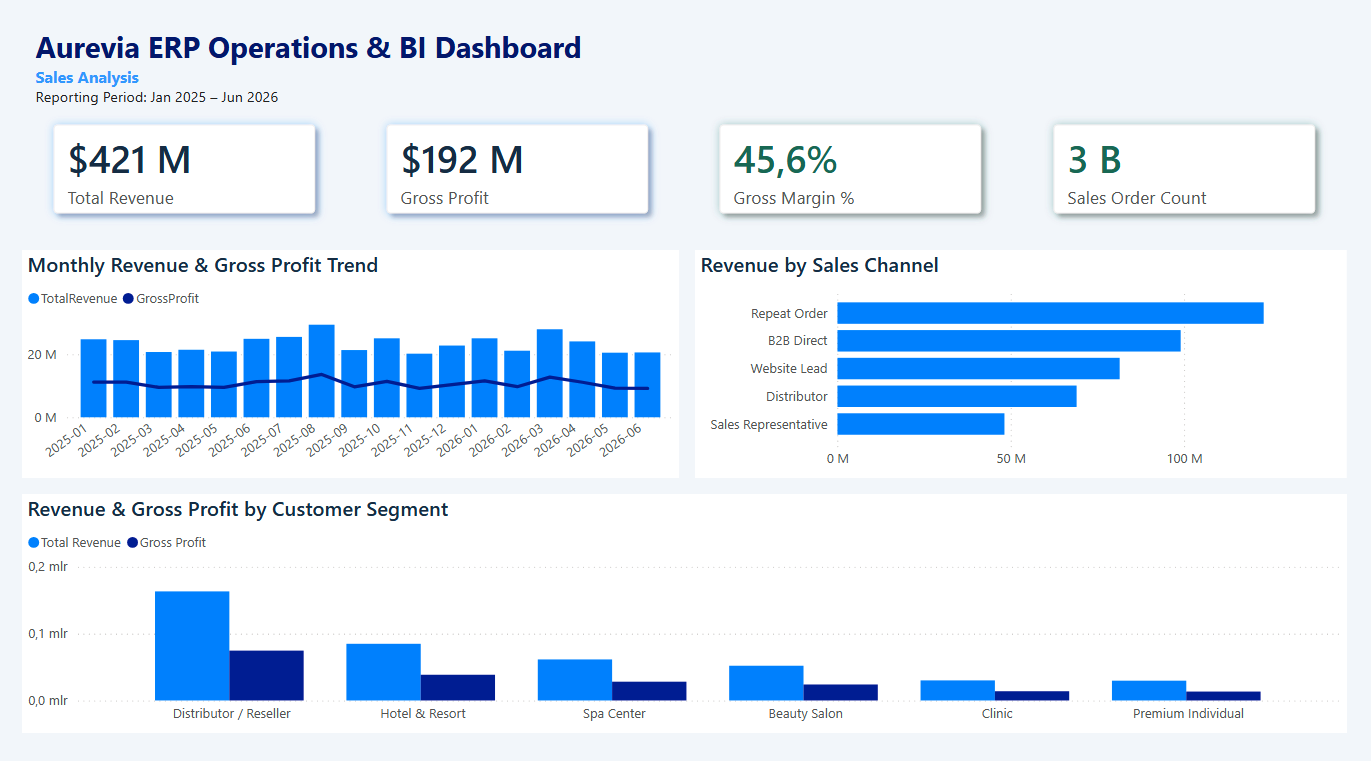

The page's visual inventory and layout, read from the dashboard file:
{"tool":"powerbi","page":{"name":"Sales Analysis","canvas":[1280,720],"ordinal":1},"visuals":[{"type":"textbox","title":"Aurevia ERP Operations & BI Dashboard Executive Overview","box":[38.1,34.5,825.6,89.2],"z":0},{"type":"cardVisual","fields":{"Data":["vw_ExecutiveKPI.Total Revenue"]},"box":[30,100,299,140],"z":1000},{"type":"cardVisual","fields":{"Data":["vw_ExecutiveKPI.Gross Profit"]},"box":[337,100,299,140],"z":2000},{"type":"cardVisual","fields":{"Data":["vw_ExecutiveKPI.Gross Margin %"]},"box":[644,100,299,140],"z":3000},{"type":"cardVisual","fields":{"Data":["vw_ExecutiveKPI.Sales Order Count"]},"box":[951,100,299.8,140.4],"z":4000},{"type":"lineClusteredColumnComboChart","title":"Monthly Revenue & Gross Profit Trend","fields":{"Category":["vw_MonthlySalesPerformance.YearMonth"],"Y":["Sum(vw_MonthlySalesPerformance.TotalRevenue)"],"Y2":["Sum(vw_MonthlySalesPerformance.GrossProfit)"]},"box":[30,245,605,210],"z":5000},{"type":"clusteredBarChart","title":"Revenue by Sales Channel","fields":{"Category":["vw_SalesChannelPerformance.SalesChannel"],"Y":["Sum(vw_SalesChannelPerformance.TotalRevenue)"]},"box":[650,245,600,210],"z":6000},{"type":"clusteredColumnChart","title":"Revenue & Gross Profit by Customer Segment","fields":{"Category":["vw_CustomerSegmentPerformance.CustomerSegment"],"Y":["Sum(vw_CustomerSegmentPerformance.TotalRevenue)","Sum(vw_CustomerSegmentPerformance.GrossProfit)"]},"box":[30,470,1220,220.1],"z":7000}]}

Visuals, with their boxes in screenshot pixels (x1, y1, x2, y2), scaled from the page's 1280x720 canvas onto the 1371x761 screenshot:
"Aurevia ERP Operations & BI Dashboard Executive Overview" textbox: box(41, 36, 925, 131)
cardVisual - vw_ExecutiveKPI.Total Revenue: box(32, 106, 352, 254)
cardVisual - vw_ExecutiveKPI.Gross Profit: box(361, 106, 681, 254)
cardVisual - vw_ExecutiveKPI.Gross Margin %: box(690, 106, 1010, 254)
cardVisual - vw_ExecutiveKPI.Sales Order Count: box(1019, 106, 1340, 254)
"Monthly Revenue & Gross Profit Trend" lineClusteredColumnComboChart: box(32, 259, 680, 481)
"Revenue by Sales Channel" clusteredBarChart: box(696, 259, 1339, 481)
"Revenue & Gross Profit by Customer Segment" clusteredColumnChart: box(32, 497, 1339, 729)
